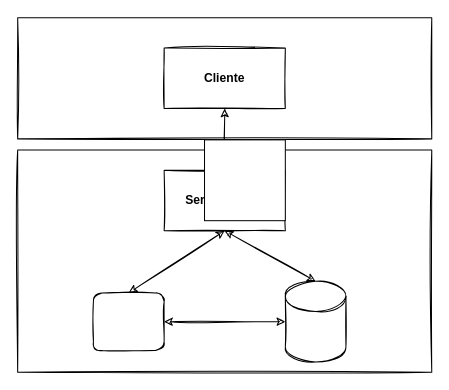
This 449x390 diagram has some shape labels left out. The shapes that lost their labels are listed below. From the top down, each one's centre as x and y in pixels, then its label:
At (128,321): "Cache".
At (315,321): "Database".
